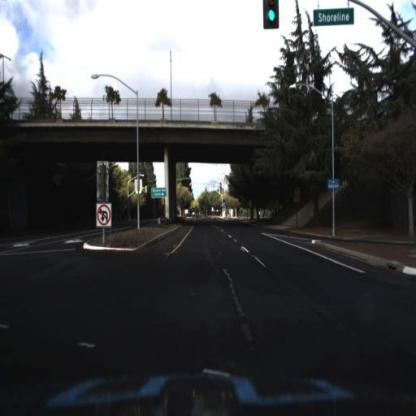trafficLight-Green: (264, 2, 281, 31)
